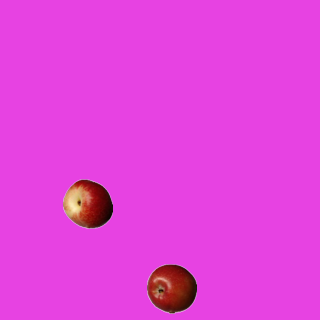Apple Braeburn: (146, 263, 196, 313)
Nectarine: (62, 178, 112, 228)
